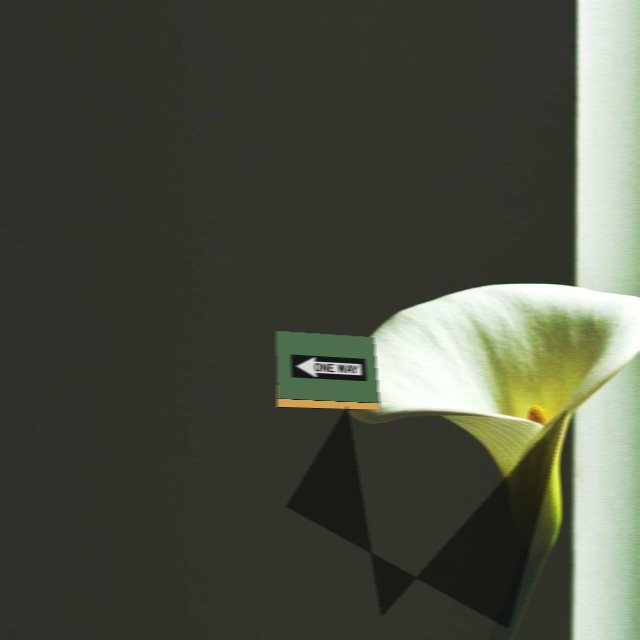ONE_WAY_ left: (285, 356, 372, 386), (291, 354, 366, 381)
